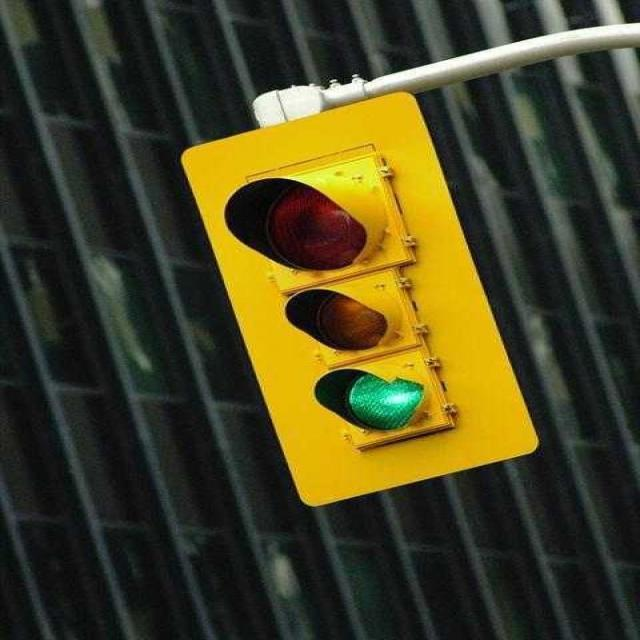red_light: (185, 94, 547, 510), (208, 170, 420, 276), (290, 352, 460, 450), (262, 280, 425, 356)
